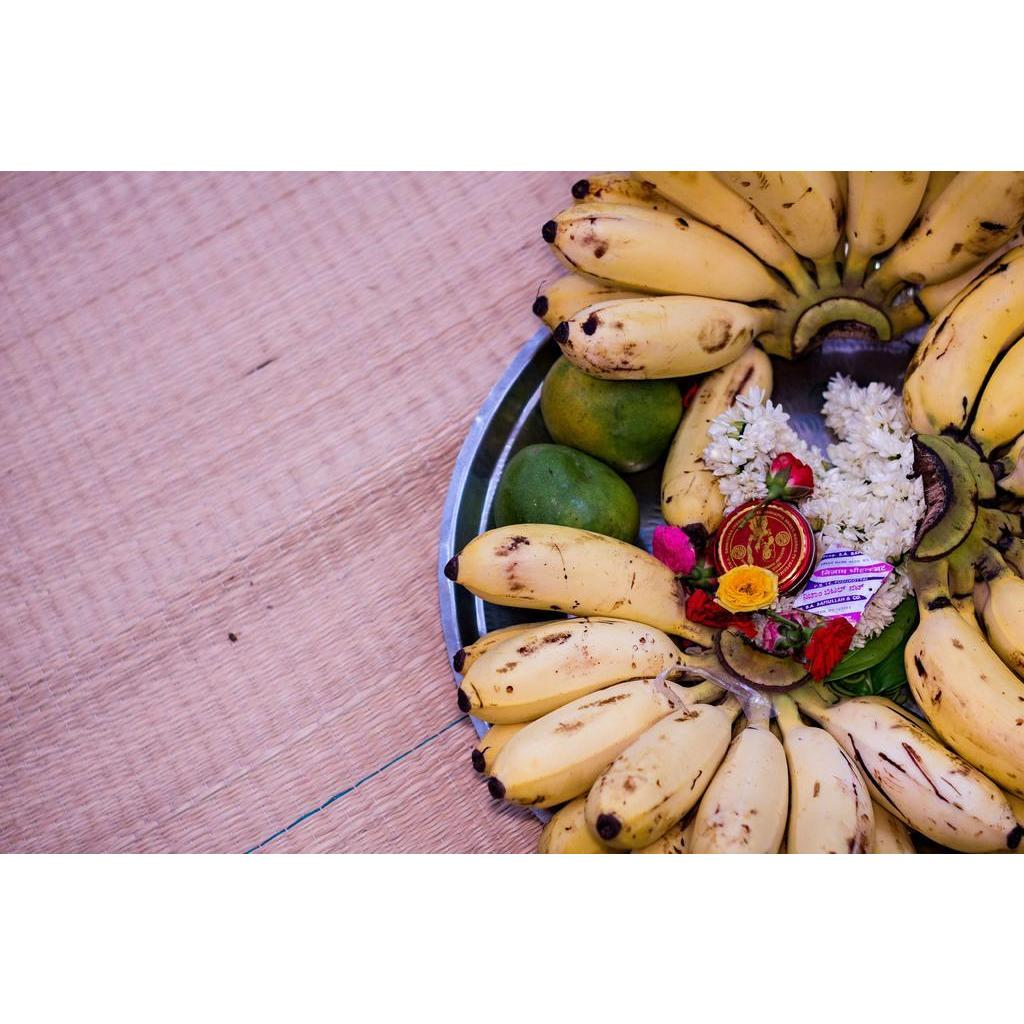banana: (452, 524, 714, 645), (489, 678, 694, 810), (542, 201, 795, 303), (456, 619, 682, 729), (587, 702, 742, 853), (556, 294, 770, 382)
